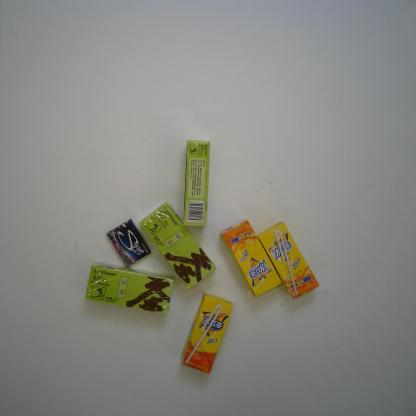Drink: (220, 218, 284, 298), (258, 221, 320, 300), (180, 292, 234, 375)
Gum: (106, 218, 152, 268)
Instant Drink: (139, 201, 216, 290), (84, 262, 176, 314), (182, 138, 211, 228)
